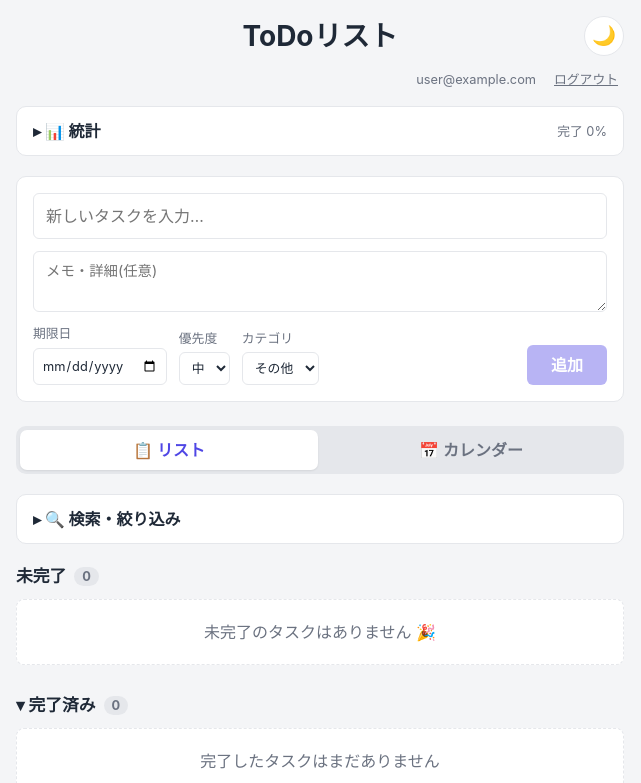
Test: ログインしたあと › タスクの保存先は Supabase。追加しても localStorage には保存しない
The image size is (641, 783).
Type "新しいタスク" into the field with placeholder "新しいタスクを入力…" at (320,216), box [33,193,607,239]
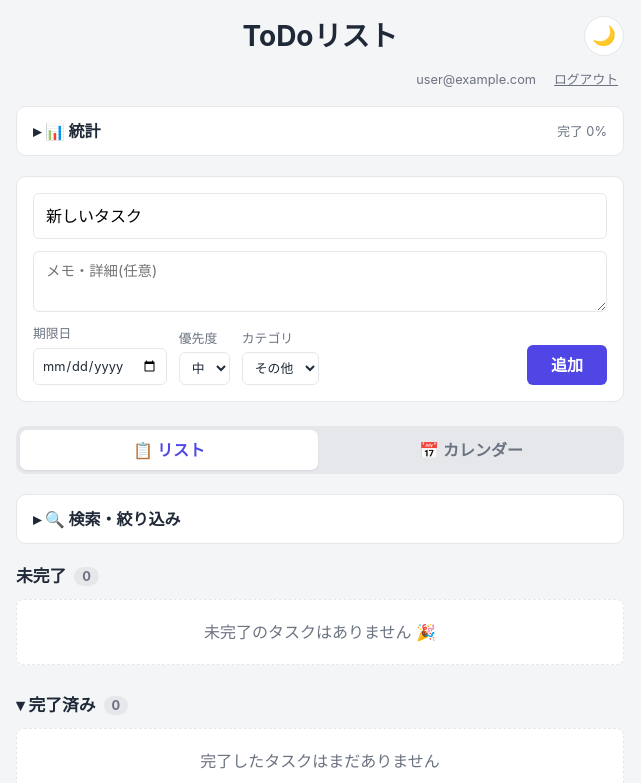
Click the button "追加" at (567,365), box [527,345,607,385]
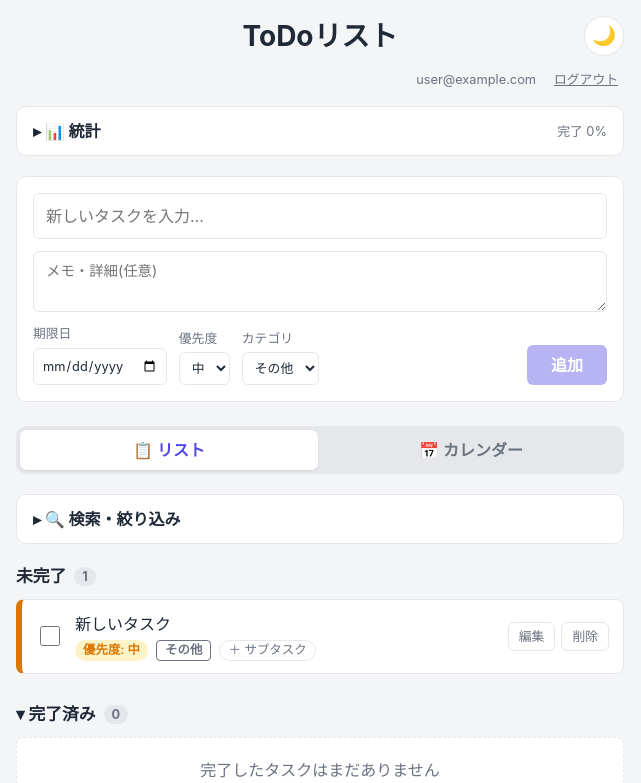
Expected: the text "新しいタスク" is shown, [75,614,171,634]
